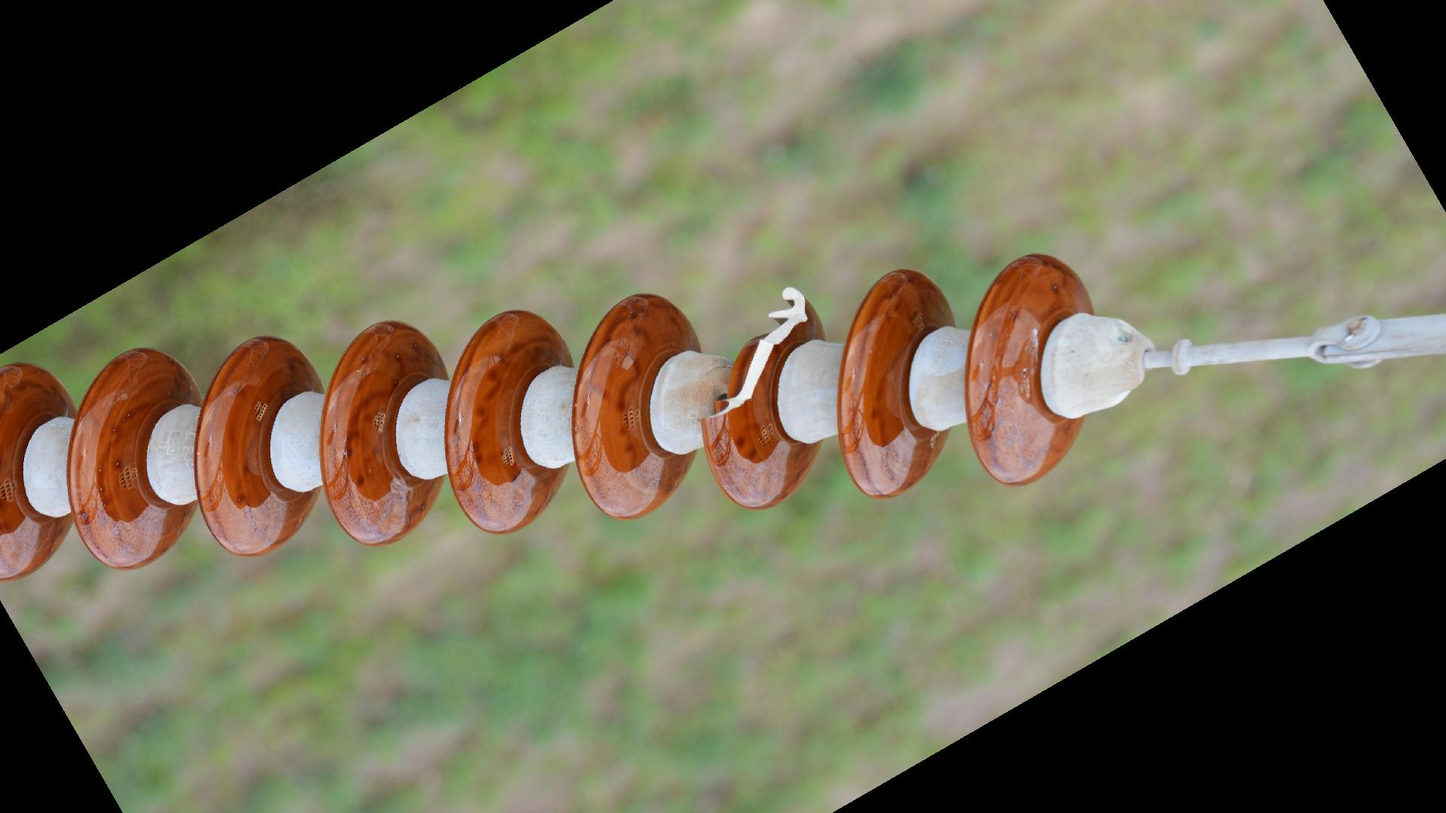insulator: (1, 248, 1097, 587)
insulator_breakage: (697, 281, 813, 430)
